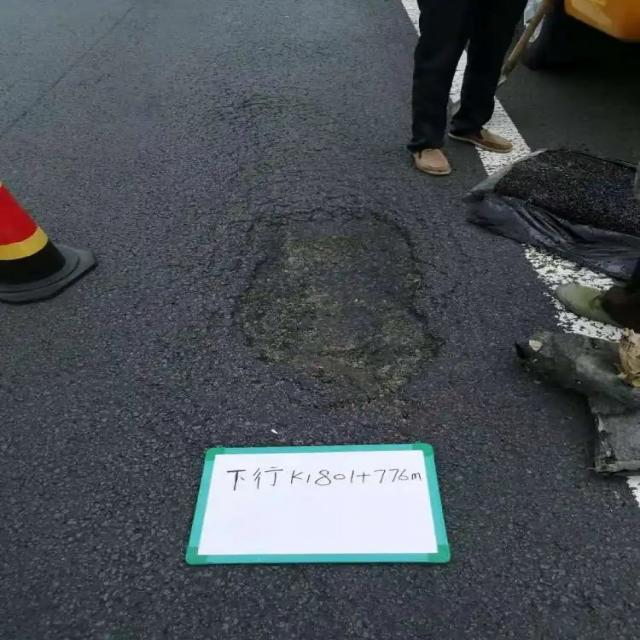Pothole: (228, 209, 445, 402)
